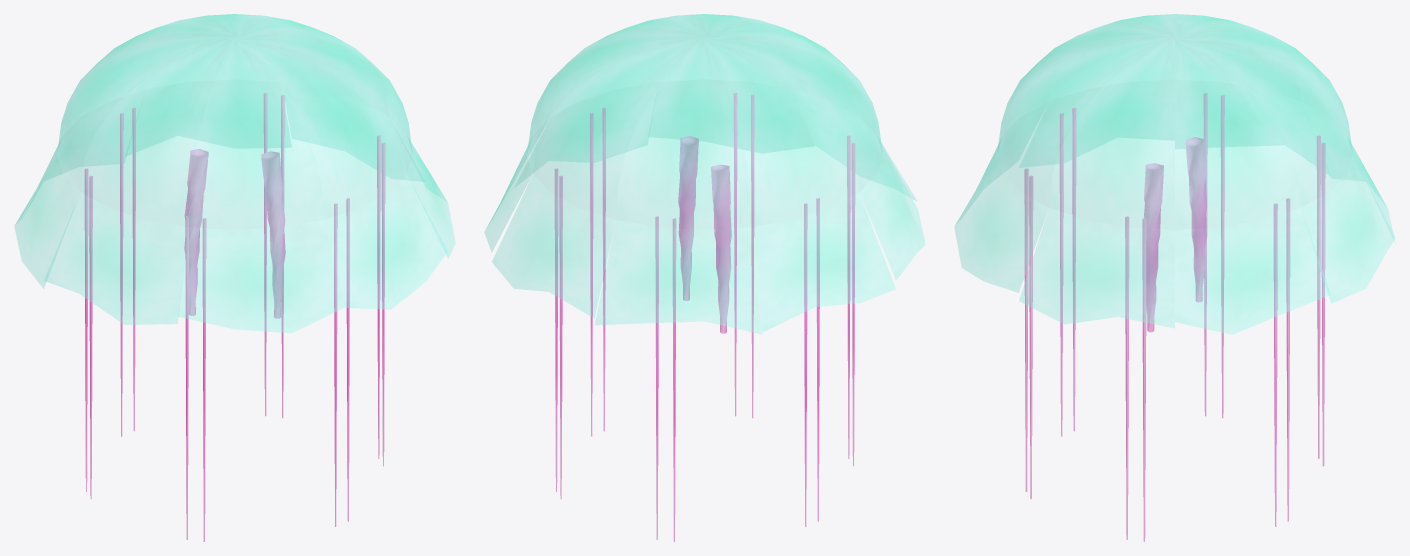
Rendered from alien_prism_jelly.glb.
The picture shows the model from 3 angles, left to right: view 1: azimuth 30°, elevation 25°; view 2: azimuth 150°, elevation 25°; view 3: azimuth 270°, elevation 25°; orthographic projection.
Size of the model in its own units: 0.992 by 1.09 by 0.992.
2 materials, 2 textured.
